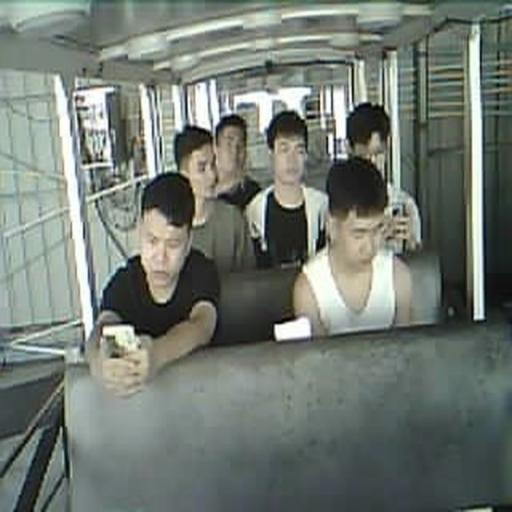persona: (87, 170, 221, 396), (292, 155, 413, 340), (244, 110, 330, 270), (173, 124, 256, 274), (344, 101, 422, 255), (212, 114, 262, 212)
